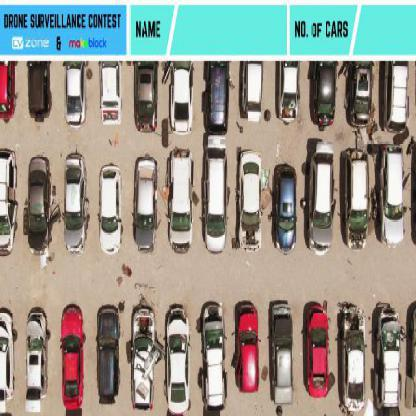car: (233, 143, 265, 253), (373, 303, 404, 413), (130, 303, 160, 410), (339, 304, 367, 412), (308, 141, 334, 254), (200, 302, 226, 413), (60, 303, 85, 415), (204, 129, 226, 249), (166, 305, 190, 414), (26, 308, 50, 414), (346, 150, 370, 252), (271, 302, 295, 404), (233, 304, 259, 394), (134, 156, 158, 252), (96, 307, 120, 403), (99, 162, 123, 256), (306, 306, 330, 400), (170, 150, 192, 252), (28, 156, 51, 252), (64, 155, 87, 245), (274, 163, 296, 254), (1, 148, 19, 258), (1, 311, 17, 411), (173, 64, 193, 137), (137, 64, 157, 134), (210, 62, 228, 132), (67, 64, 85, 129), (281, 64, 297, 122)
